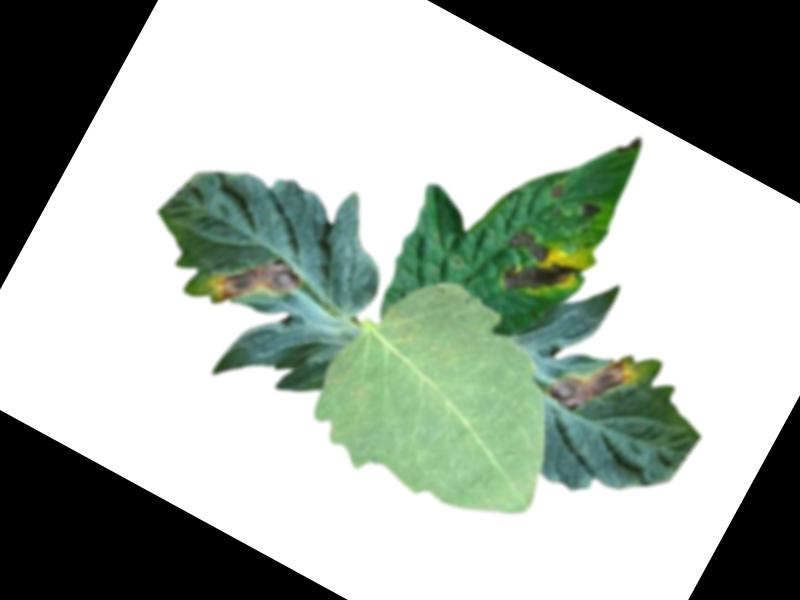Early_blight: (544, 329, 644, 435), (204, 234, 304, 332), (487, 225, 587, 319), (612, 128, 645, 164), (576, 199, 606, 227), (546, 182, 566, 204)
healthy: (291, 247, 606, 551)
